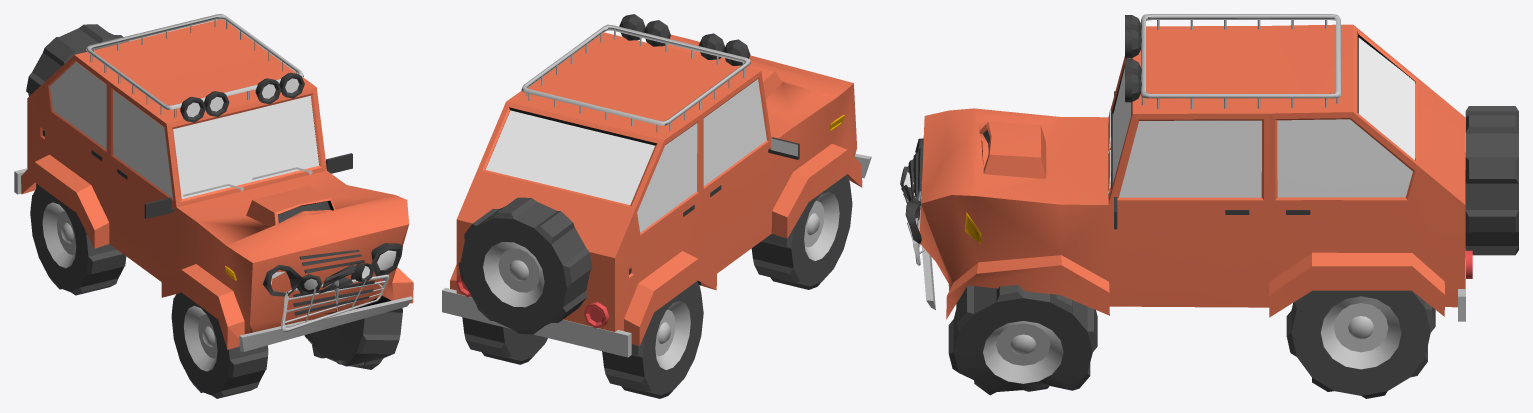
The model's file is CrashHood01.fbx.
The picture shows the model from 3 angles, left to right: view 1: azimuth 30°, elevation 25°; view 2: azimuth 150°, elevation 25°; view 3: azimuth 270°, elevation 25°; orthographic projection. The views are drawn at different scales.
Visible parts, largest first — view 1: Hood, Glass, Wheel_back_right, Wheel_front_right, Wheel_front_left; view 2: Hood, Glass, Wheel_back_right, Wheel_front_right, Wheel_back_left; view 3: Hood, Glass, Wheel_front_left, Wheel_back_left.
Part boxes in pixels (bbox=[...]): Hood: bbox=[14, 14, 413, 351]; Glass: bbox=[50, 62, 319, 198]; Wheel_back_right: bbox=[30, 185, 126, 295]; Wheel_front_right: bbox=[171, 292, 268, 398]; Wheel_front_left: bbox=[304, 308, 402, 369]; Hood: bbox=[442, 14, 871, 357]; Glass: bbox=[485, 79, 766, 232]; Wheel_back_right: bbox=[602, 281, 703, 398]; Wheel_front_right: bbox=[751, 174, 852, 289]; Wheel_back_left: bbox=[462, 317, 547, 364]; Hood: bbox=[900, 14, 1518, 321]; Glass: bbox=[1113, 37, 1414, 197]; Wheel_front_left: bbox=[948, 285, 1097, 395]; Wheel_back_left: bbox=[1286, 290, 1435, 398].
Size of the model in its own units: 51.9 by 62.08 by 112.
